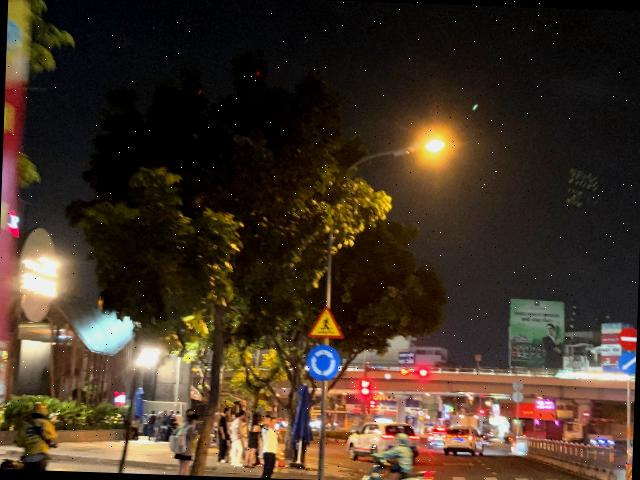cam-di-nguoc-chieu: (617, 326, 637, 351)
duong-nguoi-di-bo-cat-ngang: (308, 304, 347, 340)
huong-phai-di-vong-chuong-ngai-vat: (618, 351, 636, 375)
noi-giao-nhau-chay-theo-vong-xuyen: (307, 344, 342, 382)
